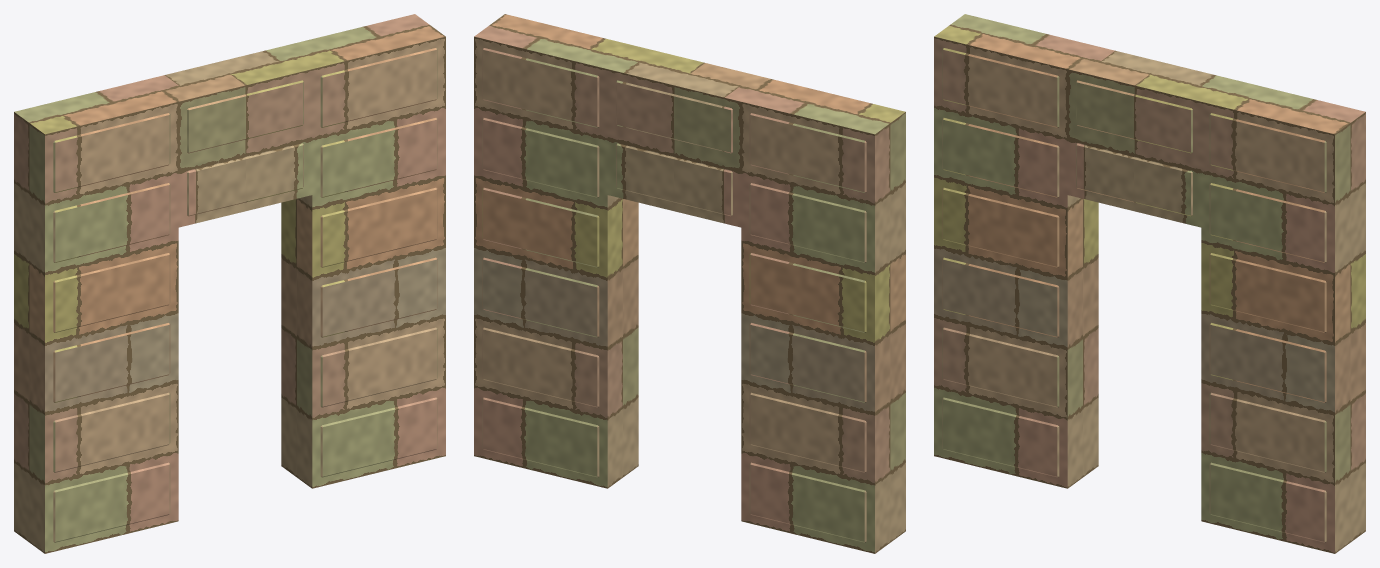
The model's file is Kit_Stone_WallDoor.fbx.
3 views of the same model, side by side, from view 1: azimuth 30°, elevation 25°; view 2: azimuth 150°, elevation 25°; view 3: azimuth 330°, elevation 25° (orthographic).
Parts seen in each view (by area): view 1: Kit_Stone_WallDoor_LOD0; view 2: Kit_Stone_WallDoor_LOD0; view 3: Kit_Stone_WallDoor_LOD0.
Boxes of the visible parts, bbox=[...] form: Kit_Stone_WallDoor_LOD0: bbox=[14, 14, 445, 553]; Kit_Stone_WallDoor_LOD0: bbox=[474, 14, 905, 553]; Kit_Stone_WallDoor_LOD0: bbox=[934, 14, 1365, 553].
Size of what is drawn, in the model's own units: 3 by 3 by 0.42.
